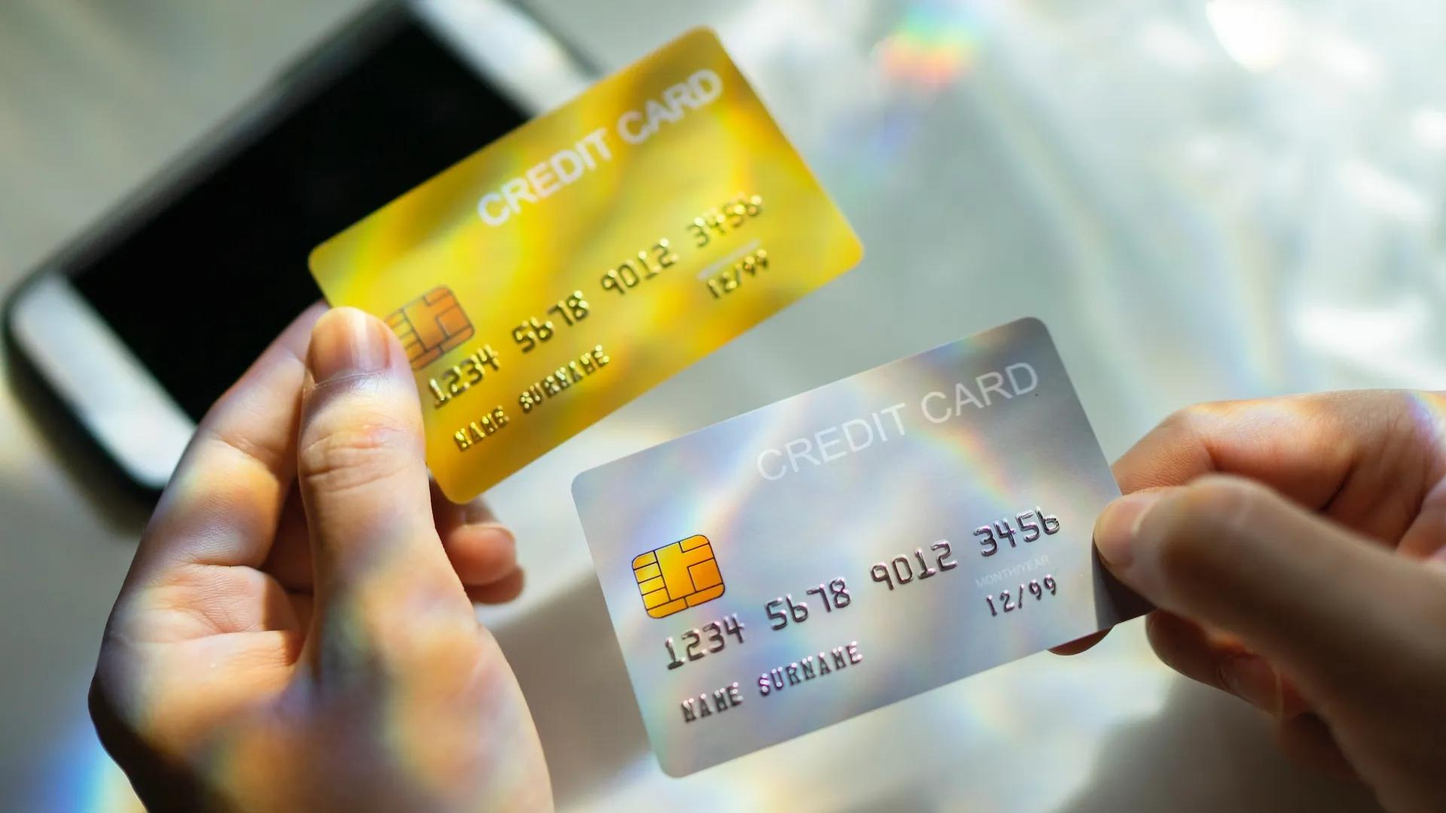Credit_card: (573, 318, 1152, 776), (310, 28, 862, 502)
